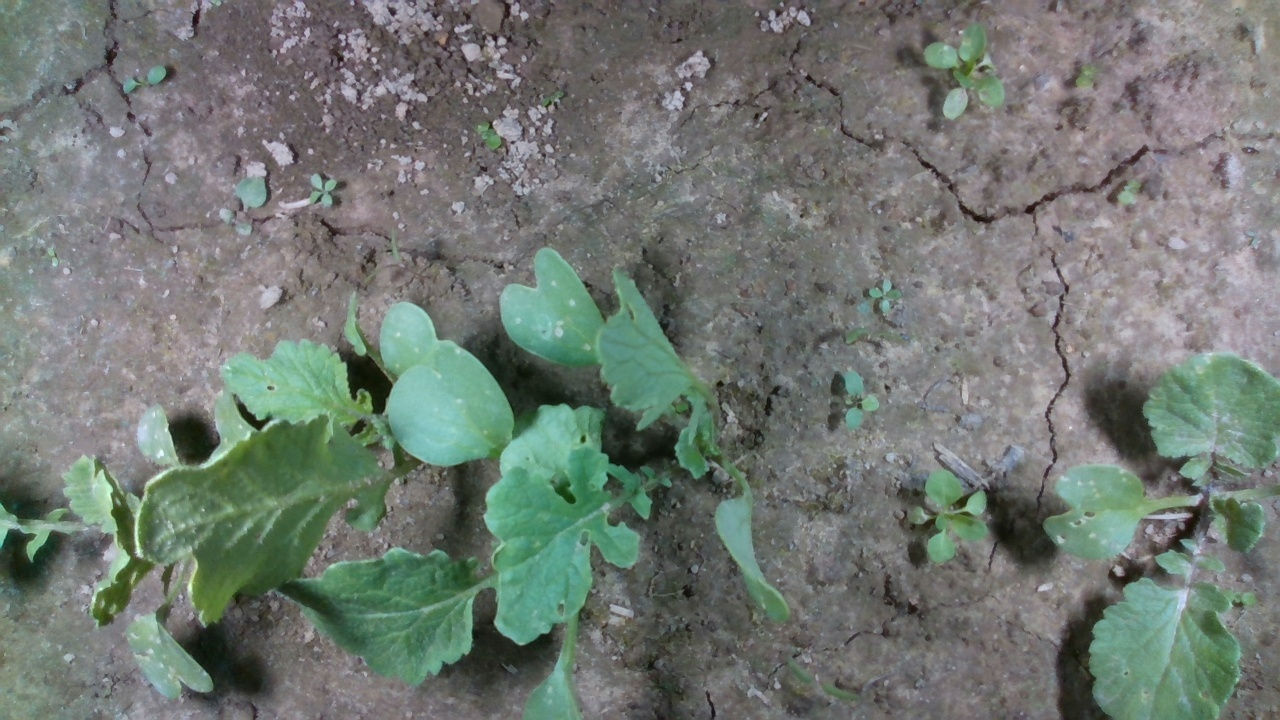weed: (107, 59, 190, 97), (838, 362, 884, 429), (857, 273, 911, 329), (220, 171, 266, 234), (303, 166, 357, 212), (456, 115, 503, 149), (1070, 59, 1102, 95), (1117, 177, 1150, 210)
